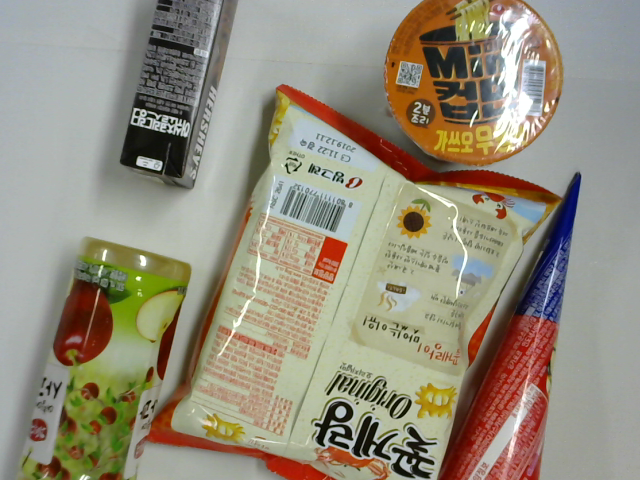Crabrang: (145, 82, 552, 480)
Hush_Choco_Drink: (114, 1, 241, 196)
Morning_Apple_500ml: (18, 228, 189, 480)
Udongmini: (383, 1, 564, 165)
World_Cone_Banila: (427, 169, 584, 480)
